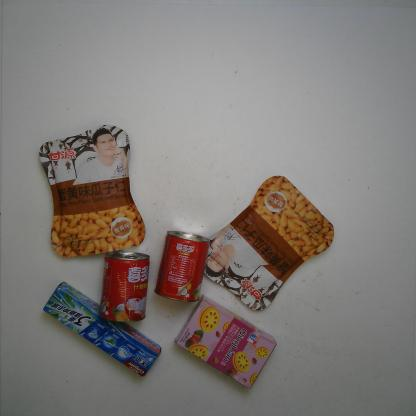Canned Food: (152, 228, 212, 304), (96, 249, 154, 325)
Dessert: (171, 291, 280, 392)
Dried Fruit: (202, 174, 338, 313), (33, 120, 148, 260)
Personal Hygiene: (39, 278, 164, 379)
